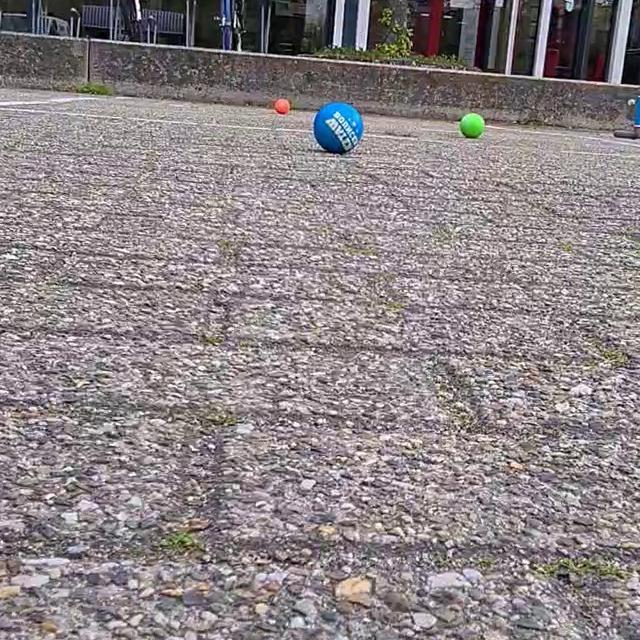ball: (456, 109, 486, 140)
